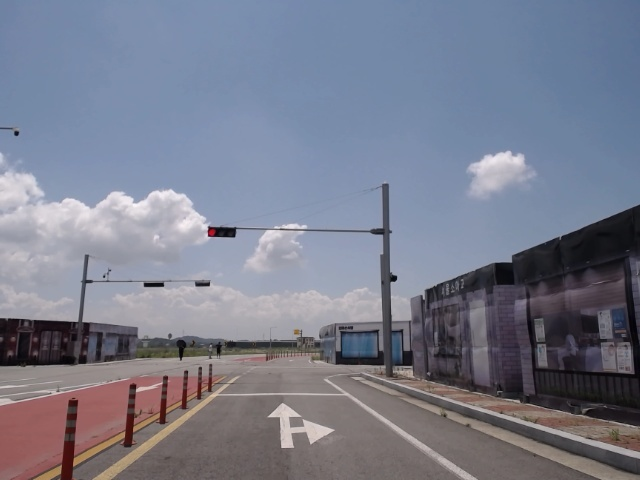red_3: (207, 226, 237, 238)
